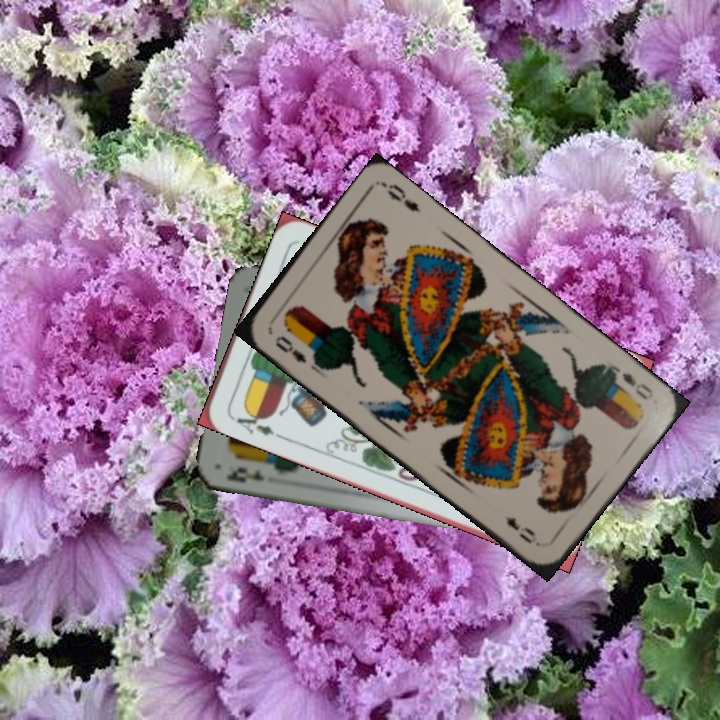EA: (226, 404, 283, 441)
EK: (222, 463, 266, 486)
EO: (607, 361, 656, 403), (270, 331, 310, 366)
